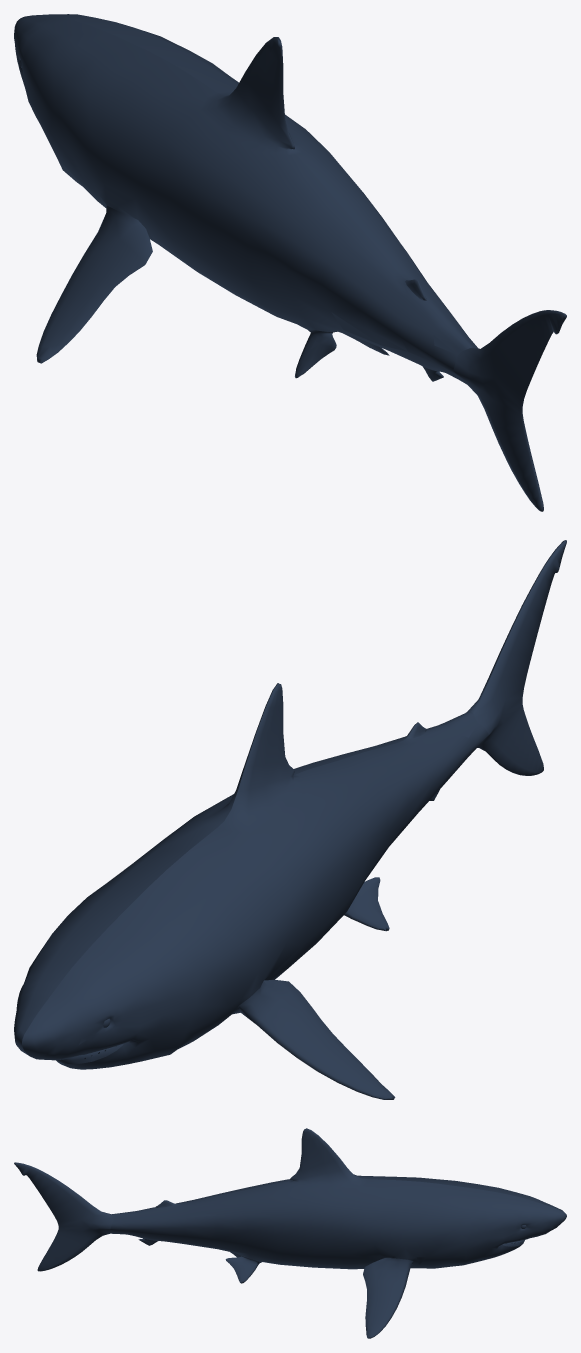
The model's file is enemy.fbx.
The picture shows the model from 3 angles, top to bottom: view 1: azimuth 30°, elevation 25°; view 2: azimuth 150°, elevation 25°; view 3: azimuth 270°, elevation 25°; orthographic projection. The views are drawn at different scales.
Visible parts, largest first — view 1: Shark_01SG1; view 2: Shark_01SG1; view 3: Shark_01SG1.
Part boxes in pixels (x1,y1,x2,y2): Shark_01SG1: (14,14,566,511); Shark_01SG1: (14,540,566,1099); Shark_01SG1: (14,1128,566,1338).
Bounding box in the file's own units: 8.82 × 7.75 × 23.33.
